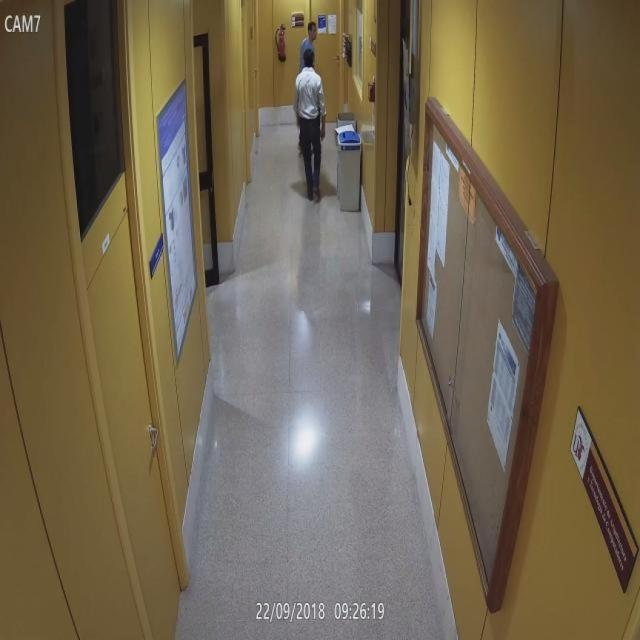pistol: (314, 102, 322, 120)
